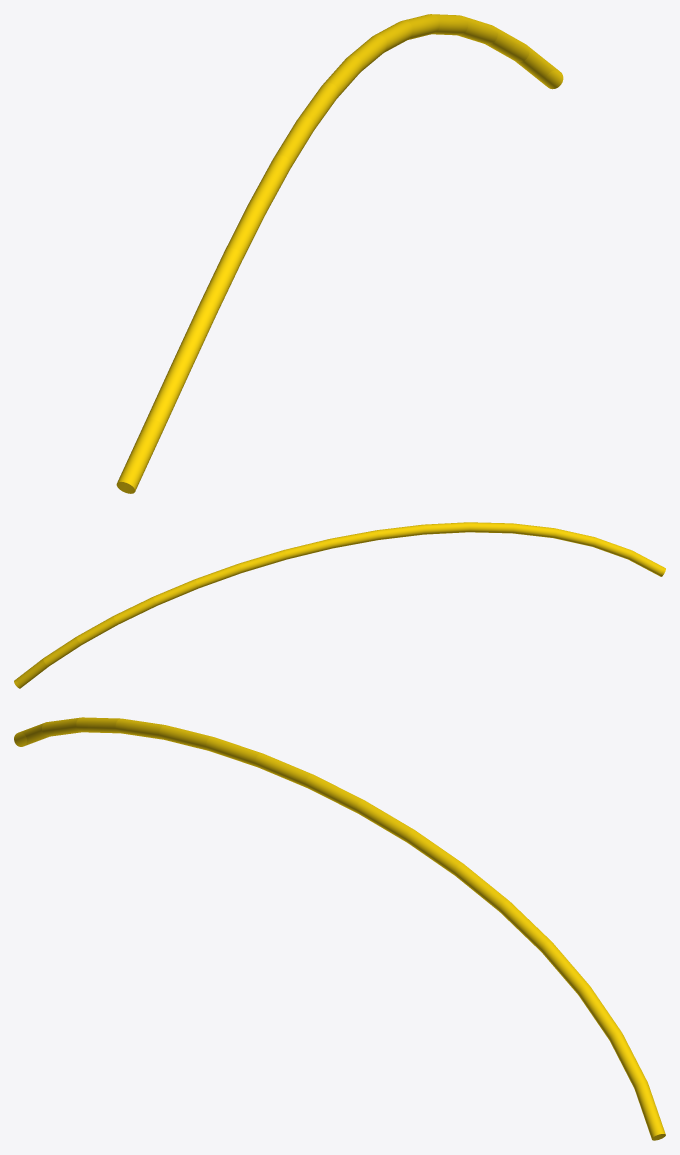
File: Event_421115418_track_147.fbx
3 renders of one model, top to bottom at view 1: azimuth 30°, elevation 25°; view 2: azimuth 150°, elevation 25°; view 3: azimuth 270°, elevation 25°, orthographic. The views are drawn at different scales.
Visible parts, largest first — view 1: Model; view 2: Model; view 3: Model.
Part boxes in pixels (box(x1,y1,x2,y2)): Model: box(116, 14, 563, 493); Model: box(14, 522, 665, 688); Model: box(14, 717, 665, 1140).
Bounding box in the file's own units: 2 × 0.5716 × 1.75.
